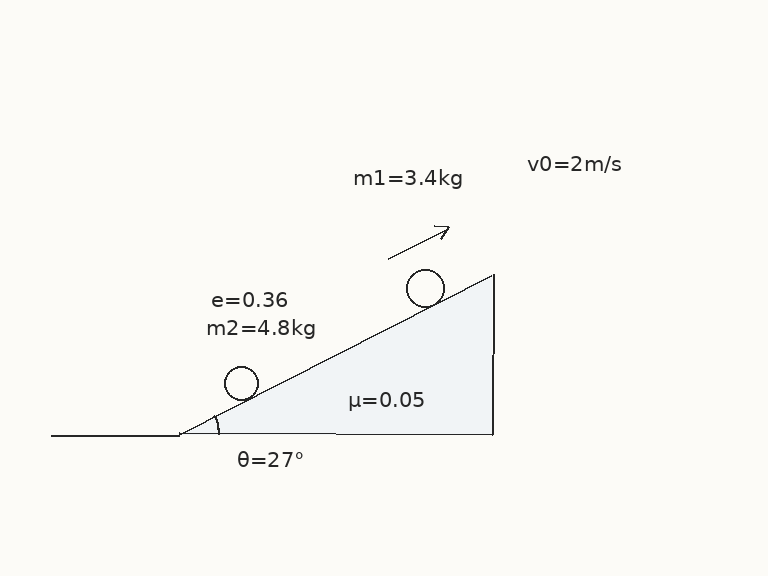ball: (404, 267, 446, 309), (222, 364, 260, 402)
ramp: (177, 273, 494, 436)
